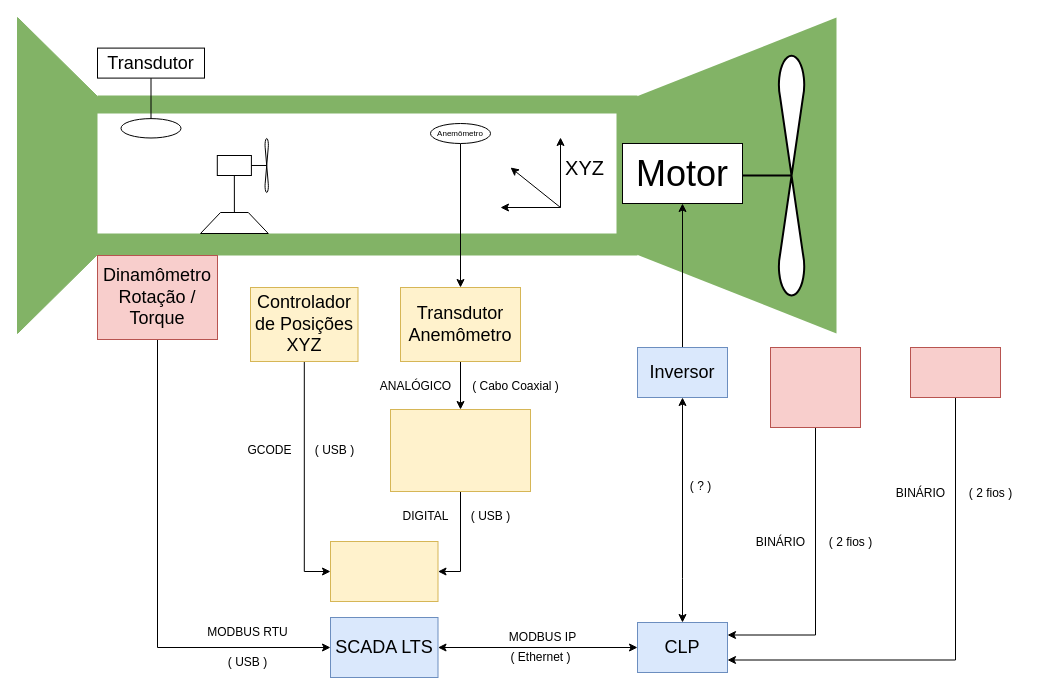
Some shapes in this 1043 by 695 pixel diagram are drawn without their labels. Each missing label, with the box of its shape:
Botão de Parada: (910, 346, 1000, 398)
Computador: (330, 540, 438, 602)
Conversor Analógico-Digital (National): (390, 408, 530, 492)
Sensor de porta aberta: (770, 346, 860, 428)
Tubo de Pitot: (120, 118, 181, 138)
